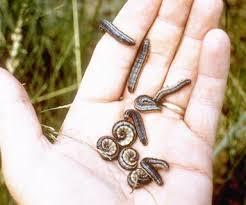fallarmy_worm: (126, 37, 147, 92), (95, 19, 138, 45), (142, 157, 175, 186), (123, 109, 151, 142), (96, 134, 119, 159), (128, 167, 155, 188), (116, 147, 139, 169), (132, 94, 160, 111)
